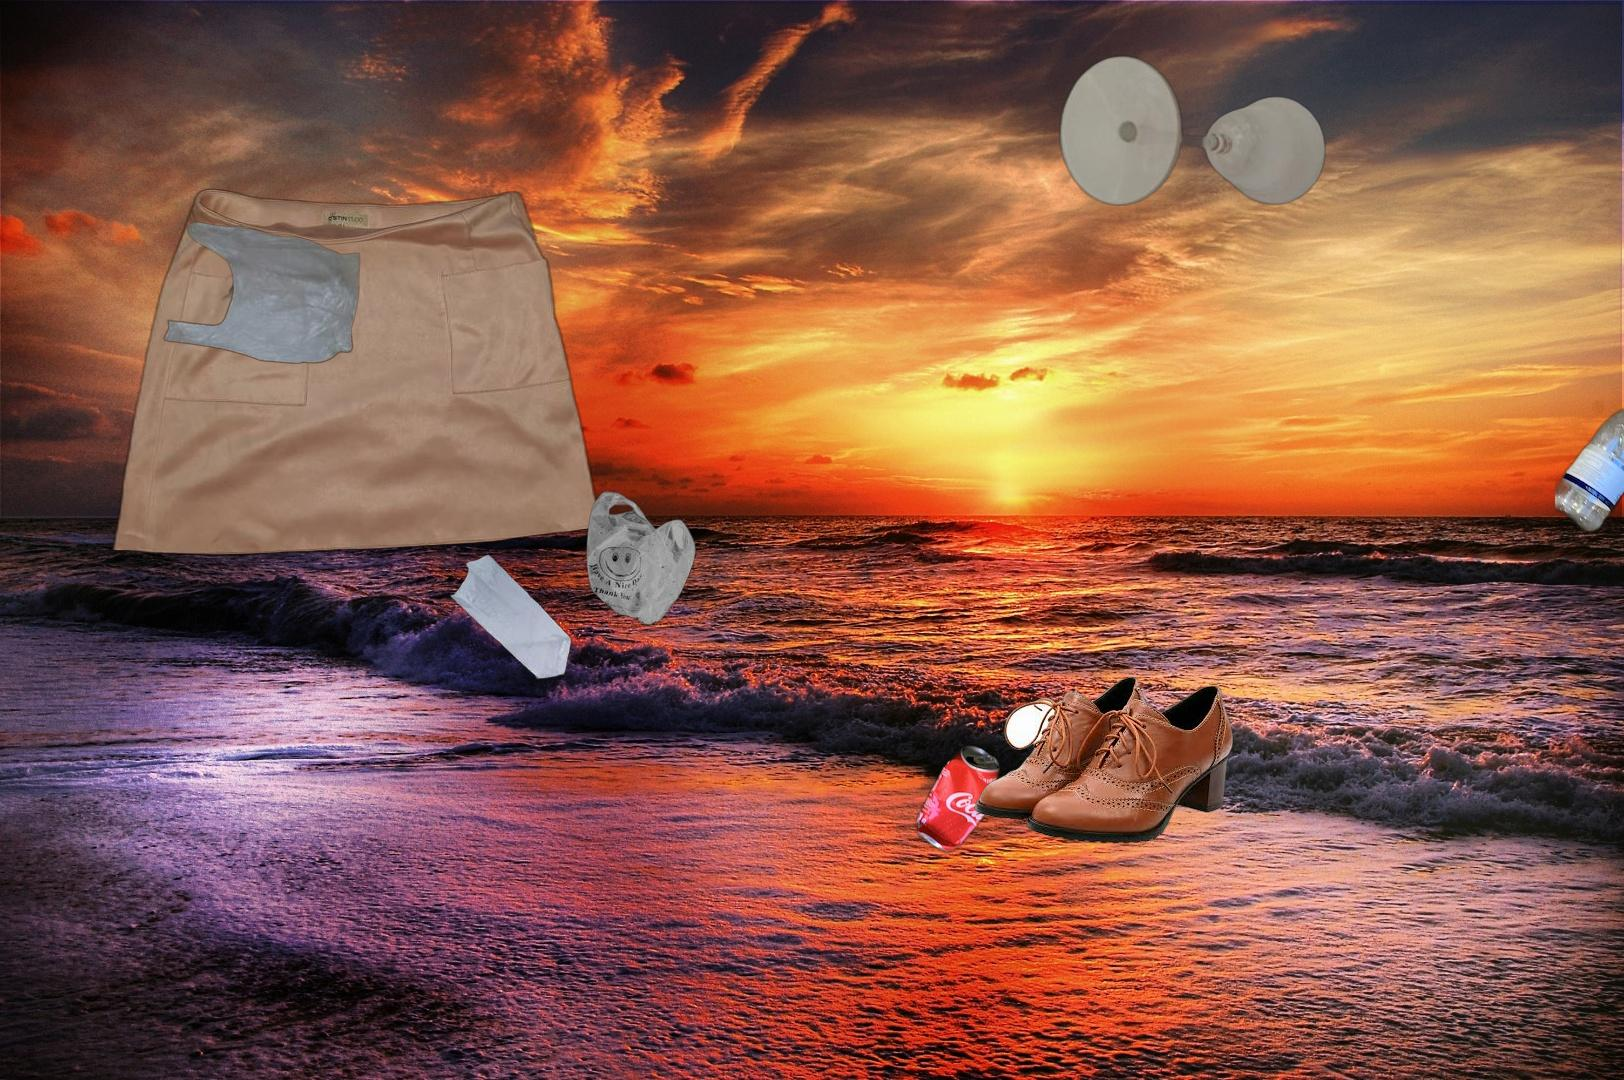clothes: (105, 184, 610, 558)
glass: (1004, 53, 1329, 365)
metal-cans: (1541, 297, 1624, 980), (912, 739, 1007, 859)
plastic-bag: (447, 488, 699, 682), (161, 219, 361, 366)
plastic-bottles: (1555, 383, 1624, 536)
shoes: (972, 674, 1236, 846)
